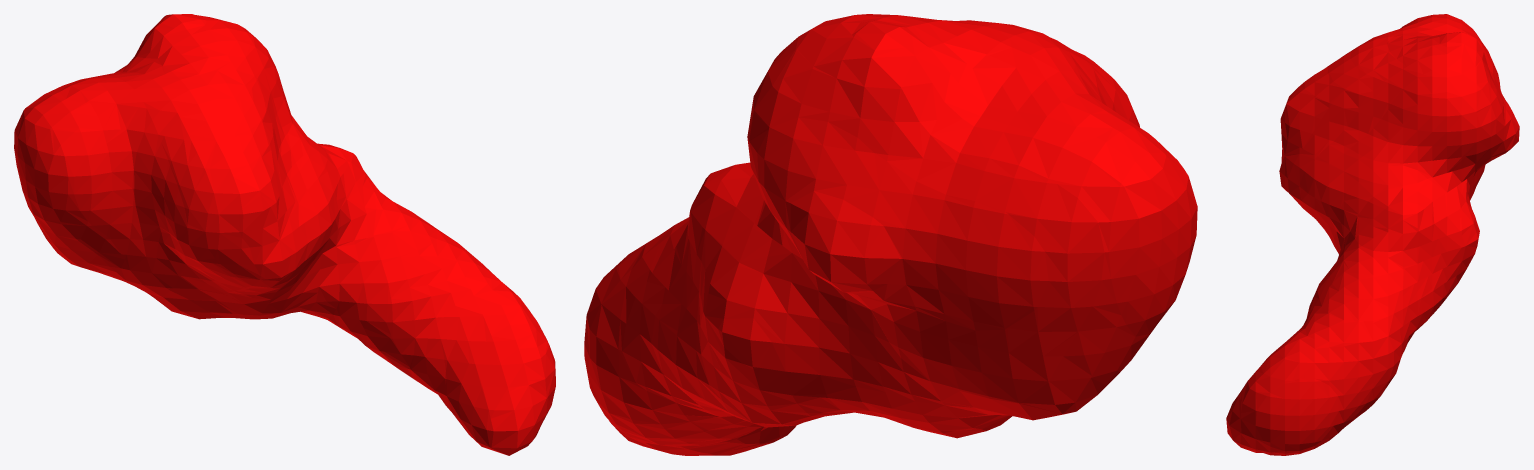
File: rpmB_coarse.dae
The picture shows the model from 3 angles, left to right: view 1: azimuth 30°, elevation 25°; view 2: azimuth 150°, elevation 25°; view 3: azimuth 270°, elevation 25°; orthographic projection. The views are drawn at different scales.
Visible parts, largest first — view 1: rpmB; view 2: rpmB; view 3: rpmB.
Part boxes in pixels (x1,y1,x2,y2): rpmB: (14,14,555,455); rpmB: (584,14,1197,455); rpmB: (1226,14,1519,455).
Bounding box in the file's own units: 51.53 × 44.75 × 35.84.
